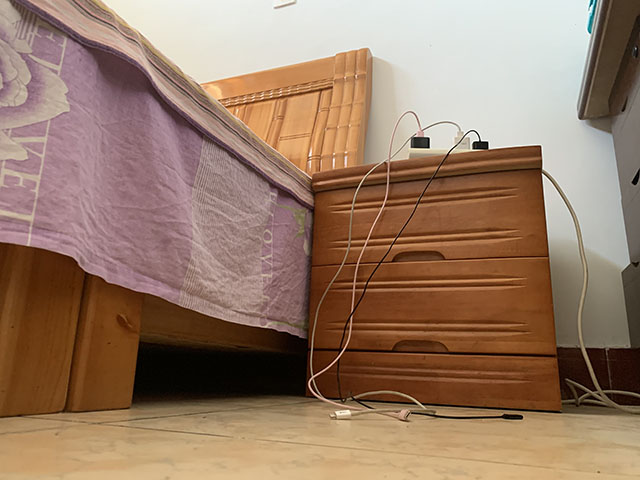bed: (1, 1, 375, 416)
cabinet: (307, 143, 565, 414)
wire: (306, 110, 640, 425)
